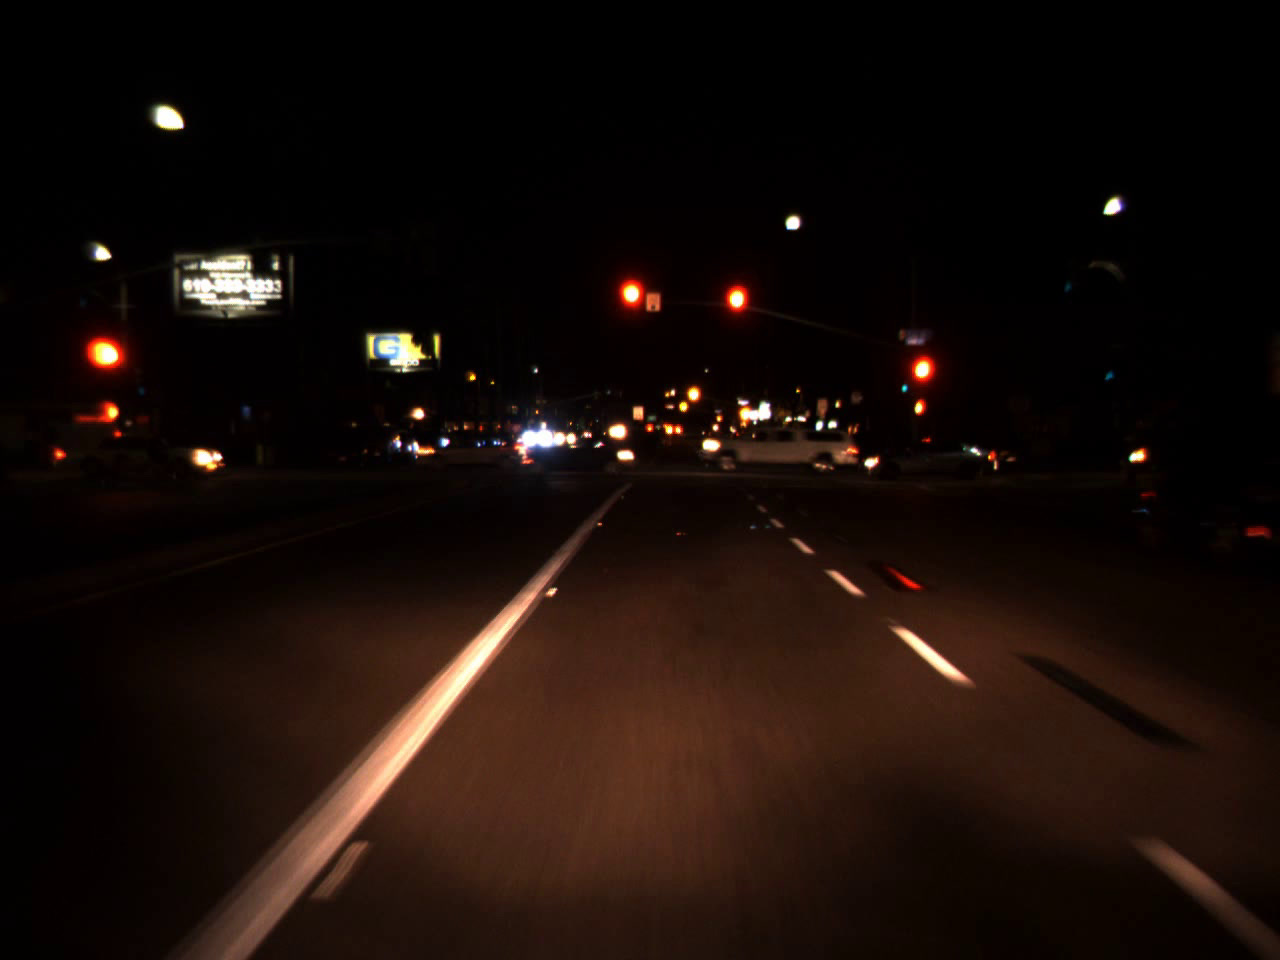stop: (88, 334, 131, 401), (614, 273, 650, 343), (906, 349, 939, 419), (721, 279, 752, 349)
warning: (686, 375, 702, 412), (737, 394, 752, 426), (678, 394, 690, 419), (714, 406, 724, 428)
